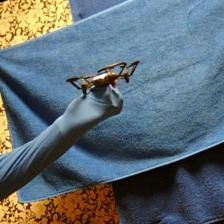drone: (64, 62, 142, 93)
